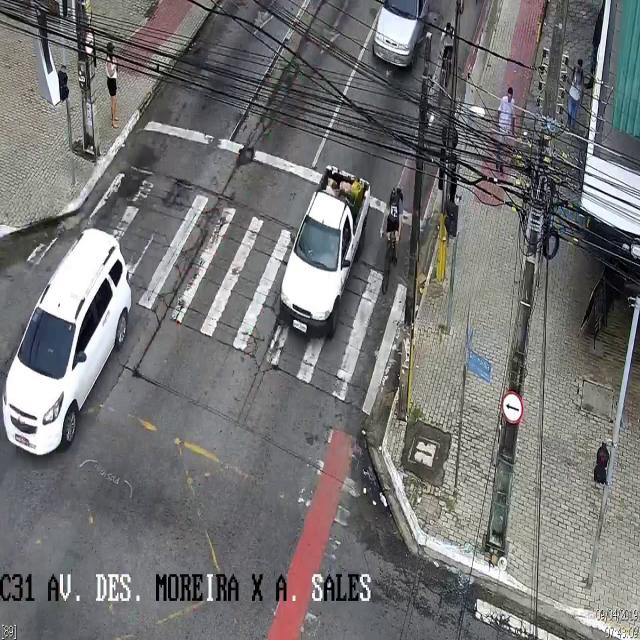Car: (1, 227, 133, 453), (280, 164, 370, 336), (371, 0, 426, 74)
